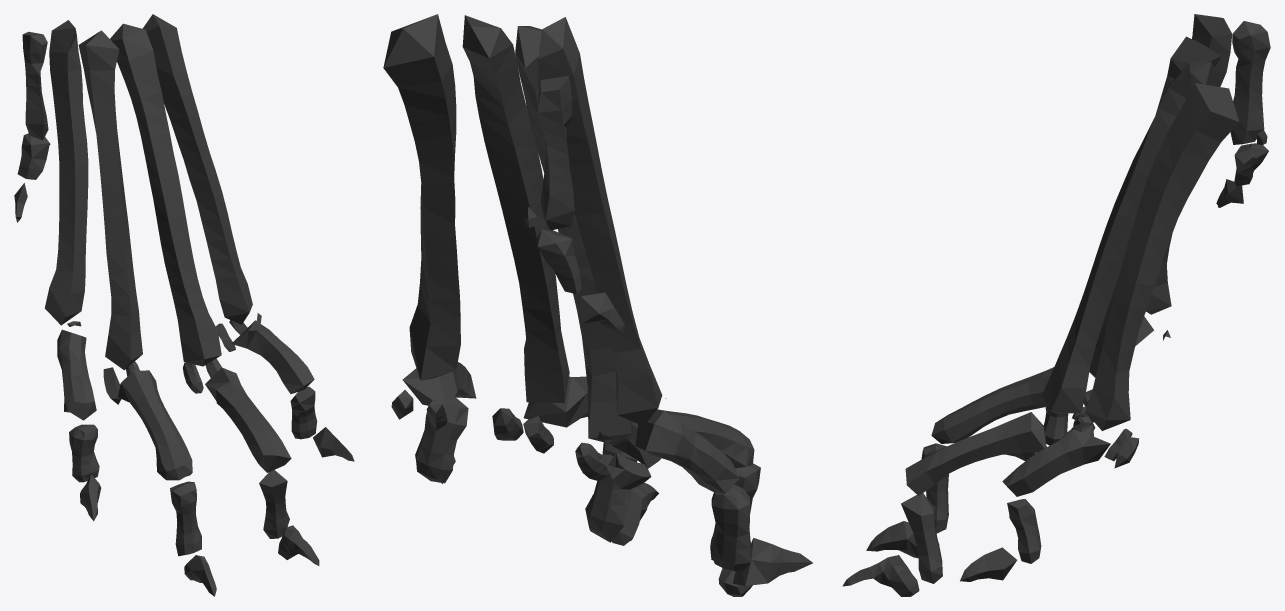
Rendered from MC_down.glb.
The picture shows the model from 3 angles, left to right: view 1: azimuth 30°, elevation 25°; view 2: azimuth 150°, elevation 25°; view 3: azimuth 270°, elevation 25°; orthographic projection. The views are drawn at different scales.
Visible parts, largest first — view 1: MC_down; view 2: MC_down; view 3: MC_down.
Boxes of the visible parts, <box> form: MC_down: <box>14,14,354,596</box>; MC_down: <box>383,14,812,596</box>; MC_down: <box>842,14,1270,596</box>.
Size of the model in its own units: 3.48 by 6.18 by 4.42.
1 material, 1 textured.
